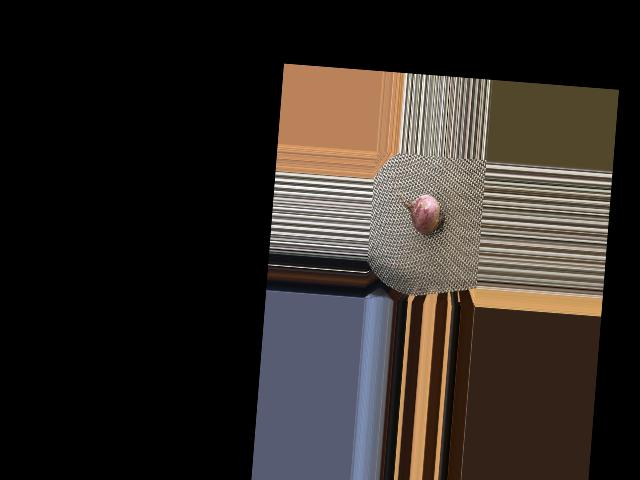beet: (388, 174, 448, 236)
